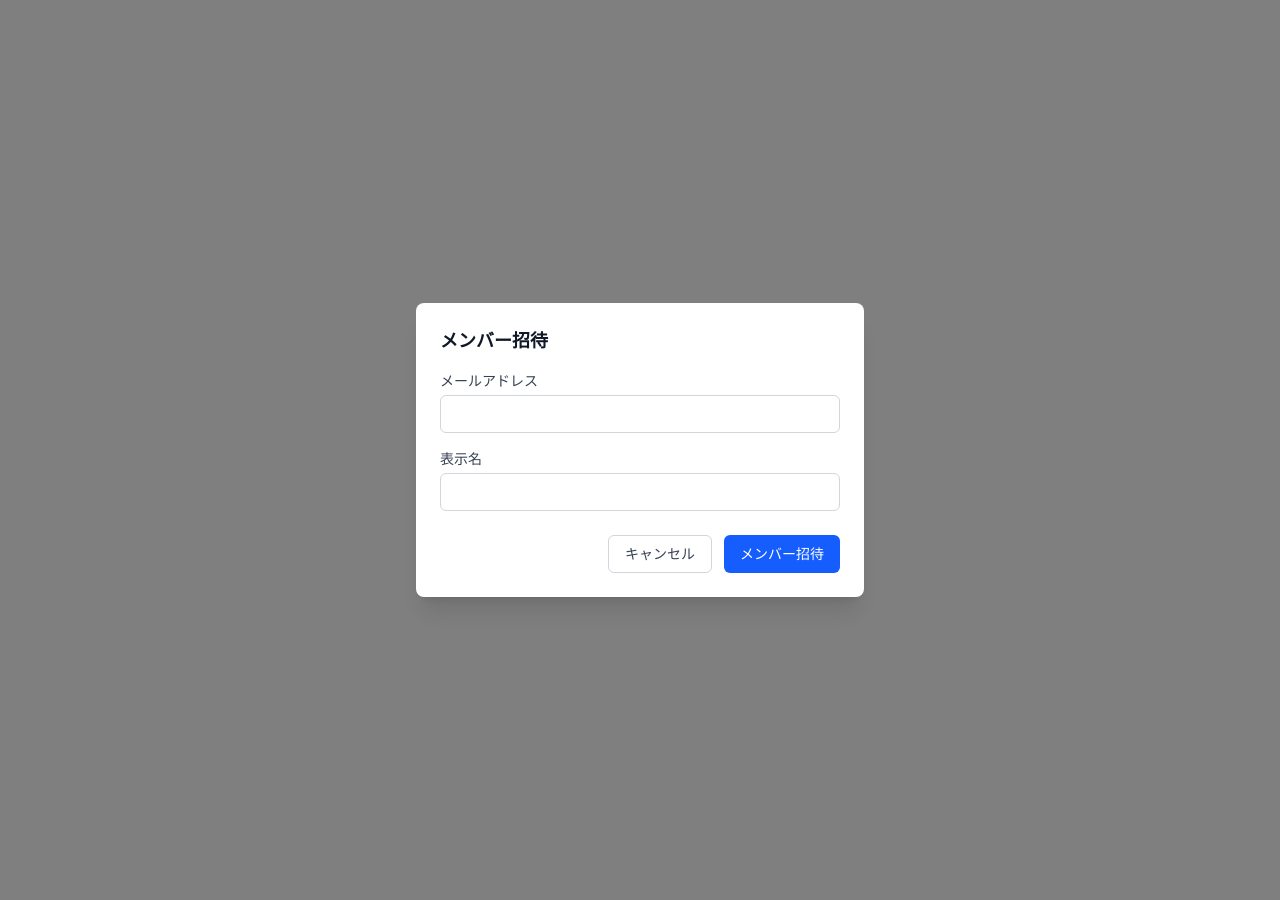
Test case: MemberForm › shows API error message on failure
Type "dup@test.com" into the field labelled "メールアドレス" at coordinates (640, 414), box [440,395,840,433]
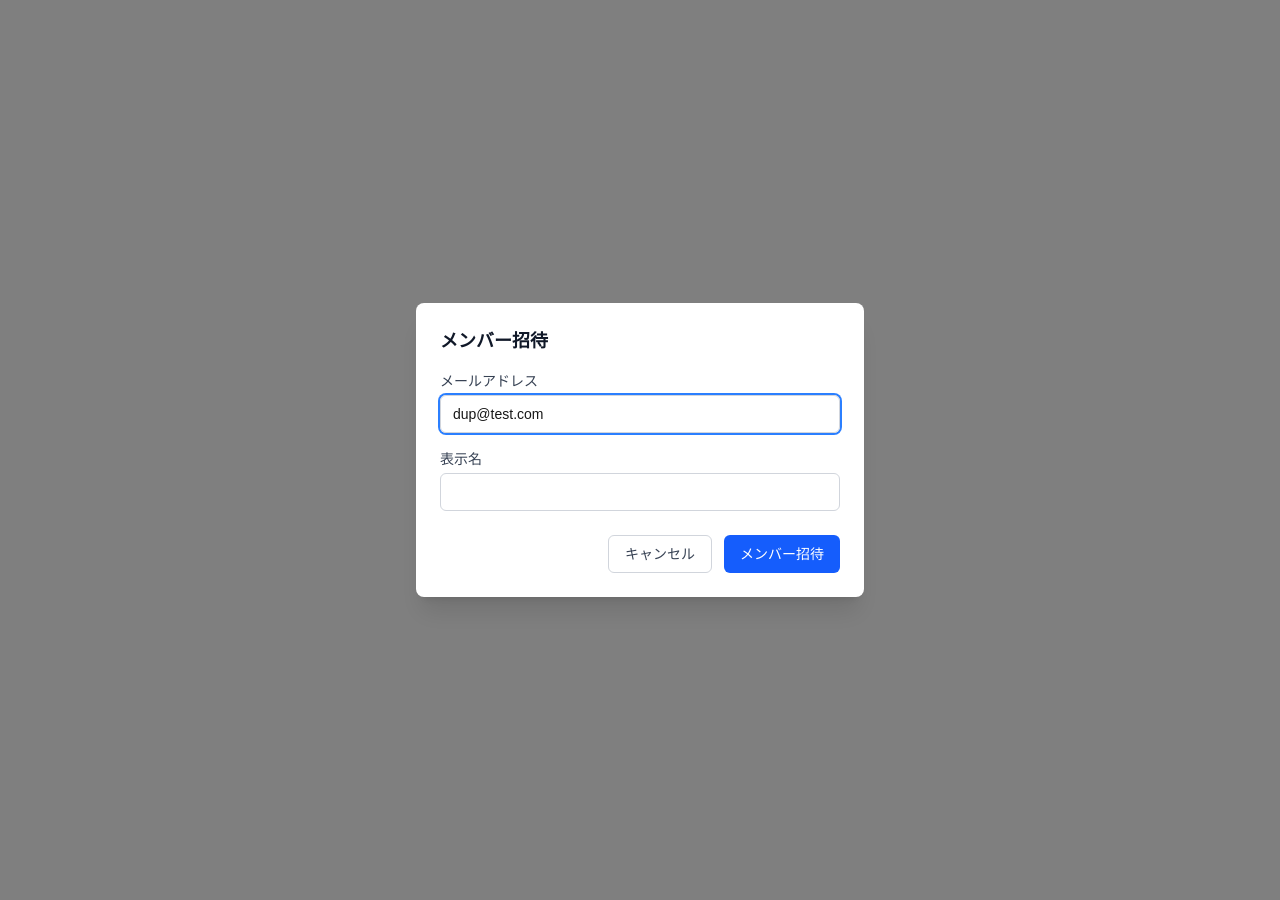
Type "Dup" into the field labelled "表示名" at coordinates (640, 492), box [440,473,840,511]
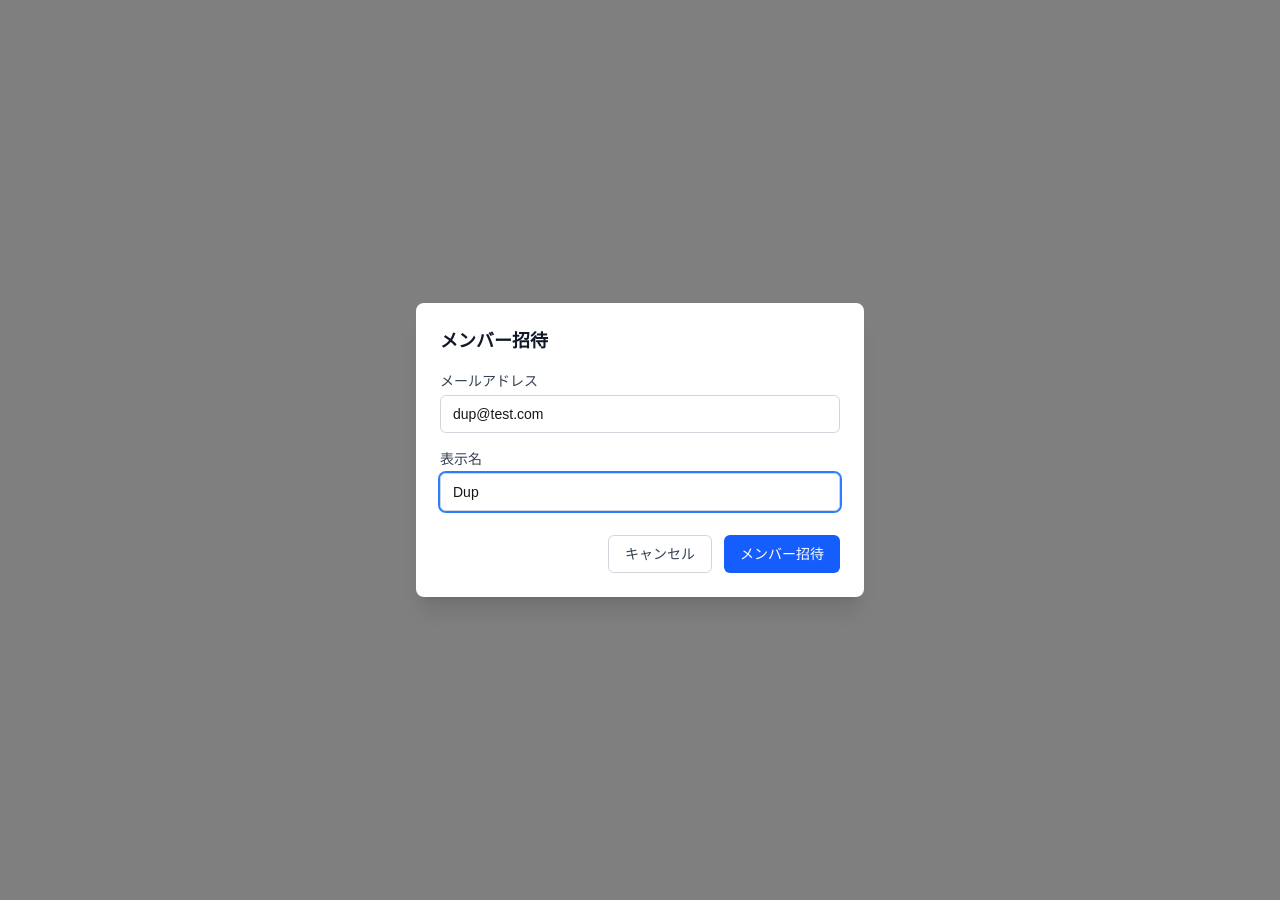
Click the button "メンバー招待" at coordinates (782, 554), box [724,535,840,573]
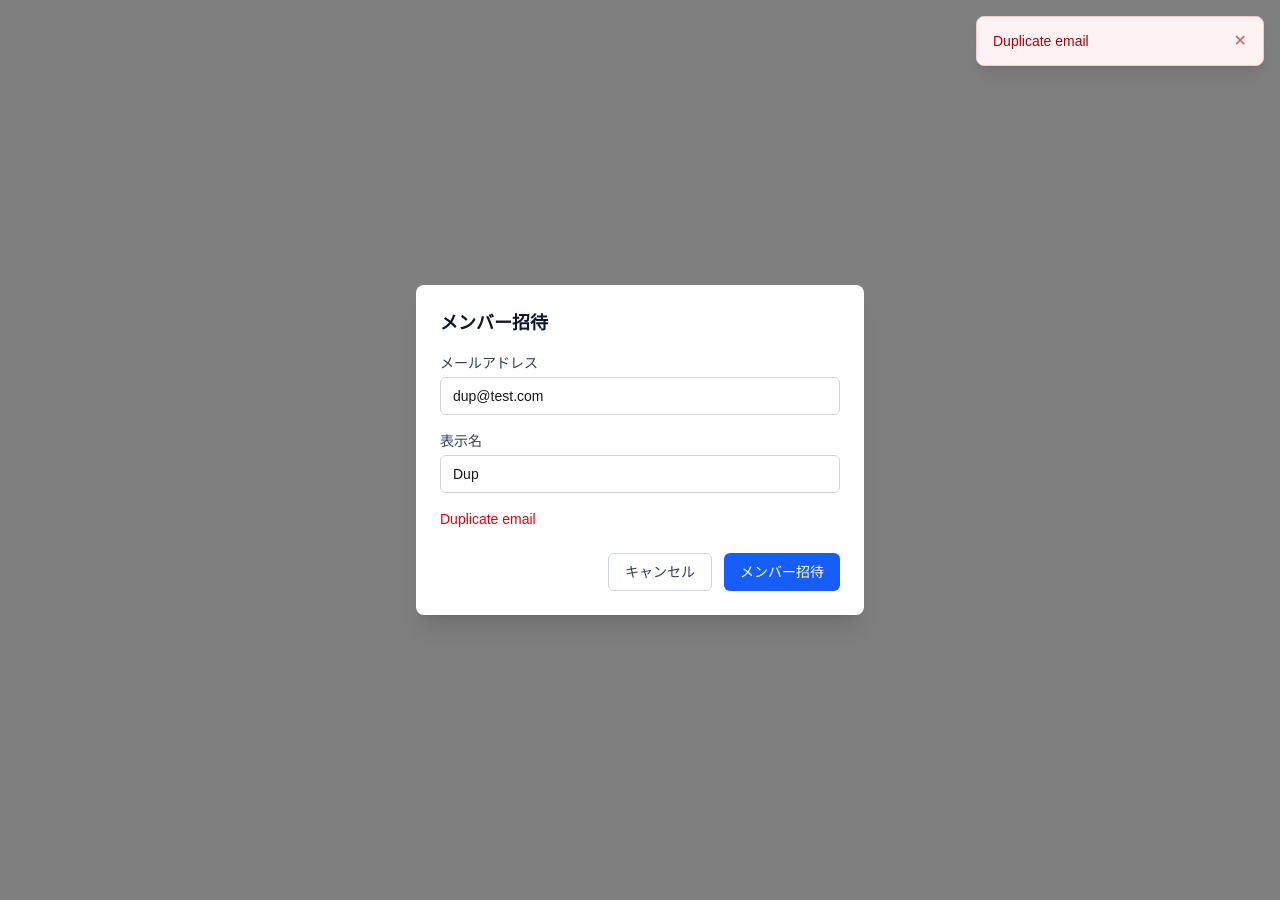
expect the text "Duplicate email" below "表示名" is shown: met, box [440,511,536,527]
